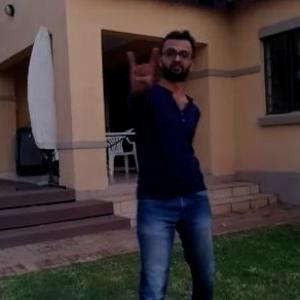takeoff-hand: (126, 41, 160, 98)
